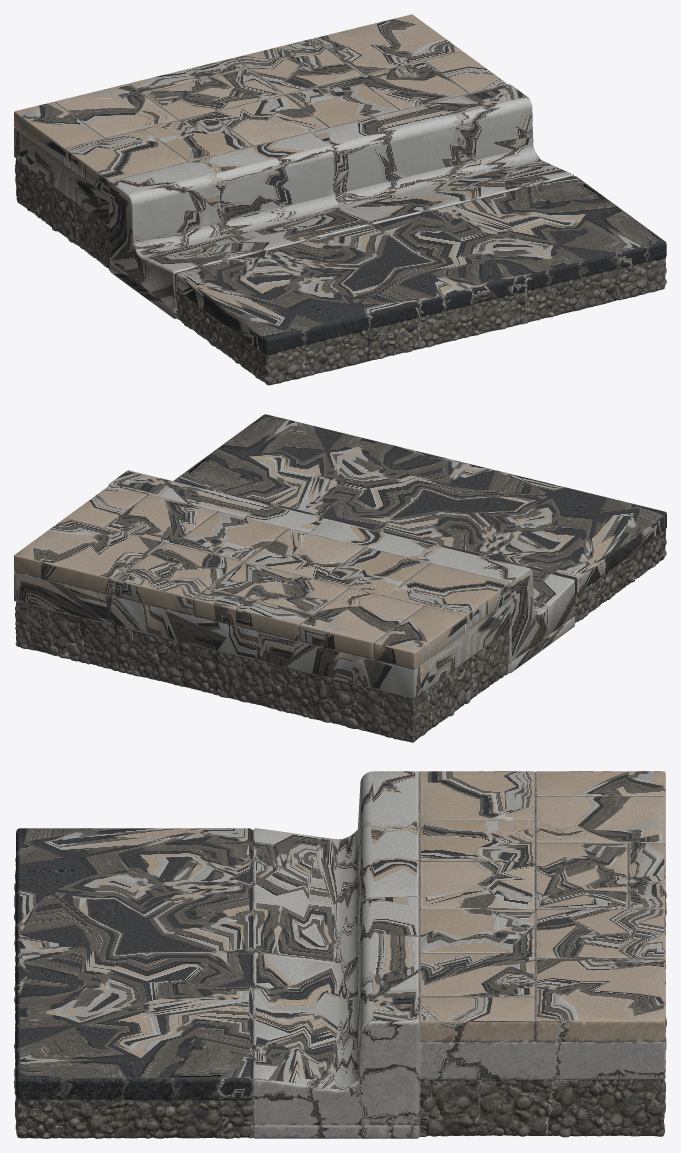
File: kerb.glb
3 views of the same model, one above another, from view 1: azimuth 30°, elevation 25°; view 2: azimuth 150°, elevation 25°; view 3: azimuth 270°, elevation 25° (orthographic). The views are drawn at different scales.
Size of the model in its own units: 1.74 by 0.3783 by 1.9.
Materials: 1 (1 with a texture image).
